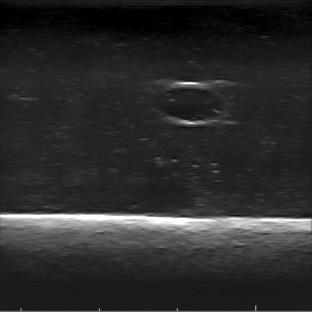vessel: (151, 81, 224, 128)
